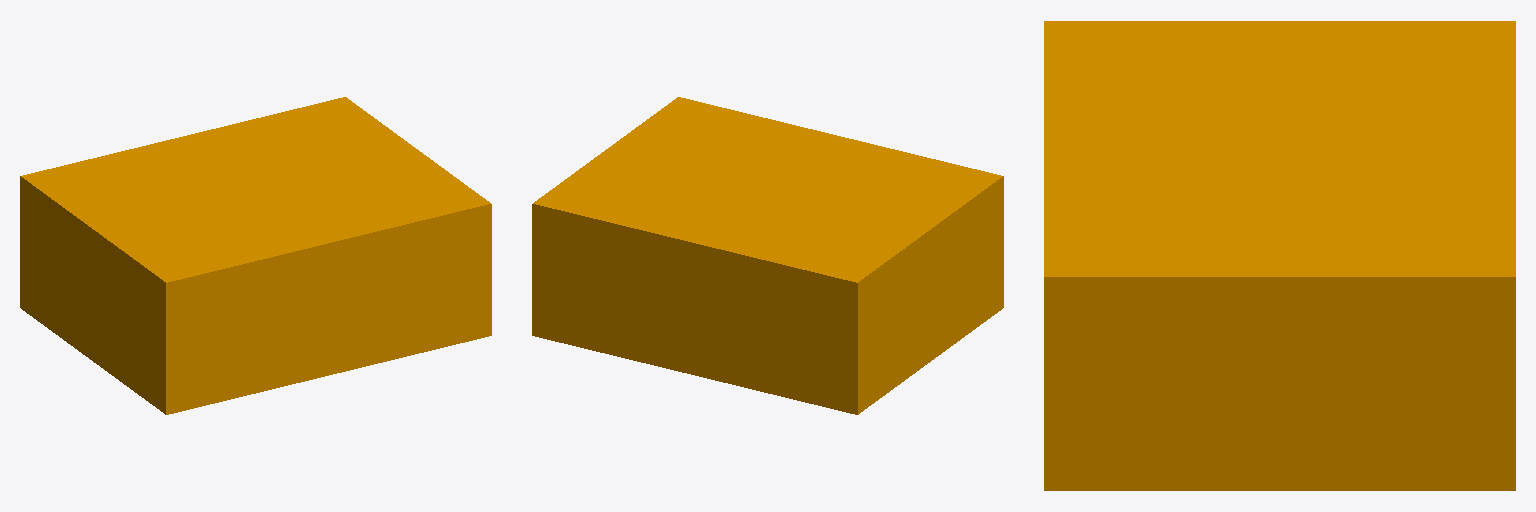
URDF robot description (object):
<?xml version="1.0"?>
<!-- Auto-generated by tools/gen_primitive_objects.py. kind=box dims=(0.09, 0.07, 0.035) -->
<robot name="object">
  <link name="object">
    <visual>
      <origin xyz="0 0 0"/>
      <geometry>
        <box size="0.090000 0.070000 0.035000"/>
      </geometry>
    </visual>
    <collision>
      <origin xyz="0 0 0"/>
      <geometry>
        <box size="0.090000 0.070000 0.035000"/>
      </geometry>
    </collision>
    <inertial>
      <mass value="0.044100"/>
      <inertia ixx="0.00002251" ixy="0.0" ixz="0.0" iyy="0.00003427" iyz="0.0" izz="0.00004778"/>
    </inertial>
  </link>
</robot>

--- Render facts (derived) ---
The picture shows the robot from 3 angles, left to right: view 1: azimuth 30°, elevation 25°; view 2: azimuth 150°, elevation 25°; view 3: azimuth 270°, elevation 25°; orthographic projection.
Robot: object — 1 links, 0 joints (none); root link object; default pose: every joint at zero.
Links seen in each view (by area): view 1: object; view 2: object; view 3: object.
Link boxes in pixels (box(x1,y1,x2,y2)): object: box(20, 97, 491, 414); object: box(532, 97, 1003, 414); object: box(1044, 21, 1515, 490).
Size in the robot's own frame: 0.09 by 0.07 by 0.035 metres.
Geometry: primitives only (box / cylinder / sphere), no mesh files.
